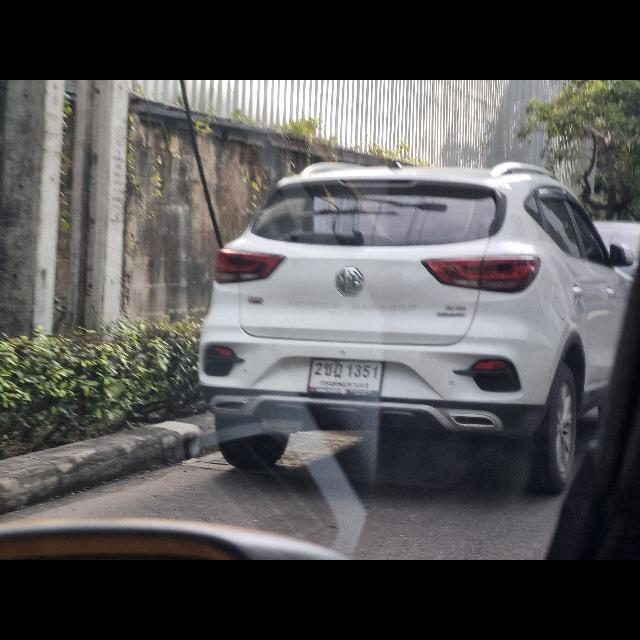licenseplate: (308, 357, 384, 399)
